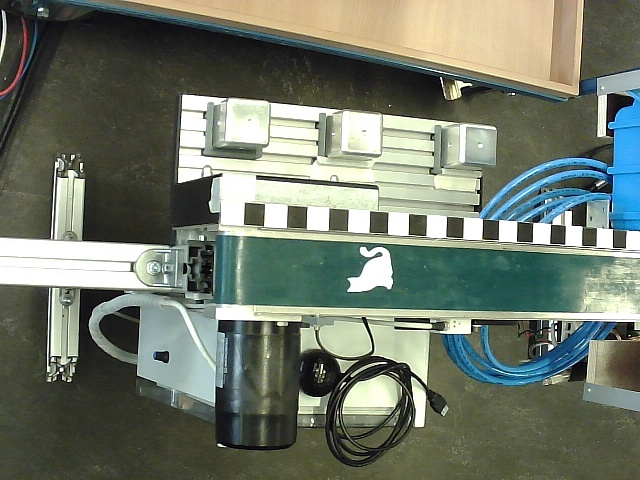cat: (347, 245, 393, 293)
